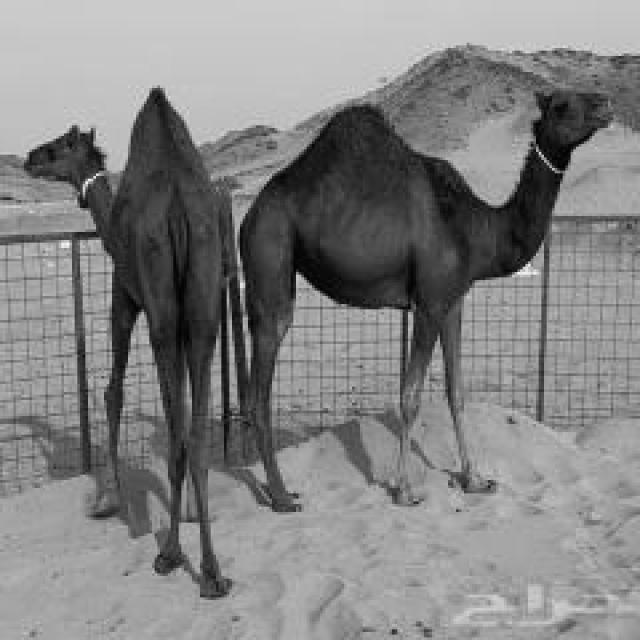Camel: (235, 85, 613, 512), (21, 83, 248, 597)
